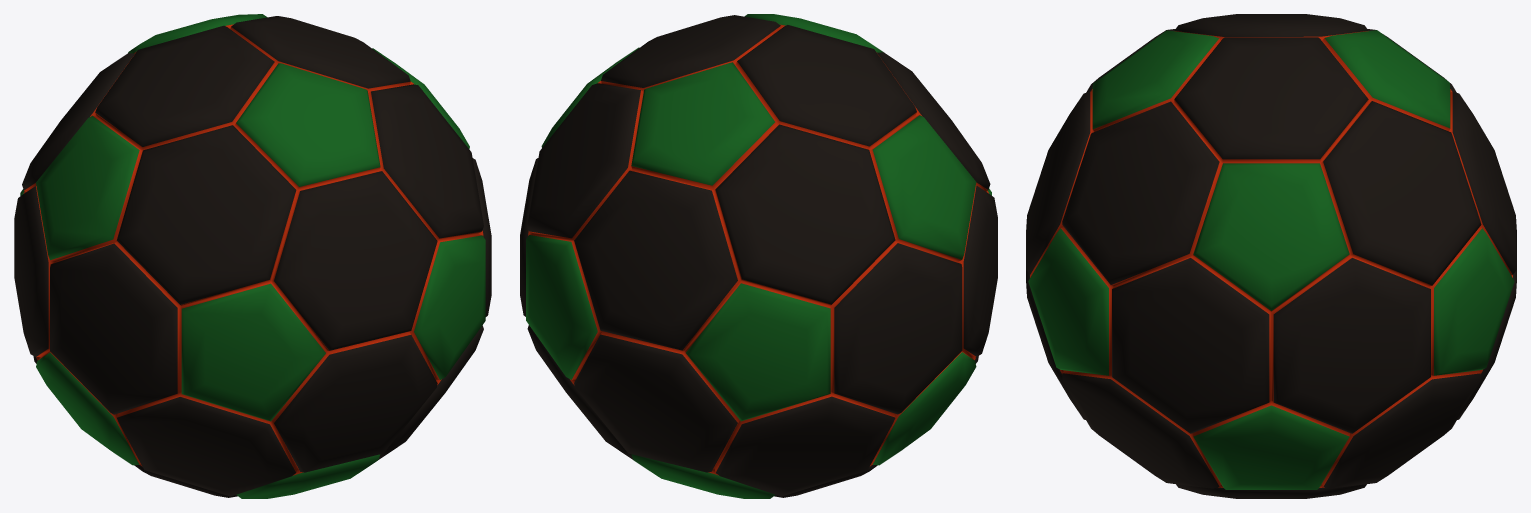
The model's file is Ball-1.FBX.
3 renders of one model, left to right at view 1: azimuth 30°, elevation 25°; view 2: azimuth 150°, elevation 25°; view 3: azimuth 270°, elevation 25°, orthographic. The views are drawn at different scales.
Visible parts, largest first — view 1: Ball-1; view 2: Ball-1; view 3: Ball-1.
Boxes of the visible parts, left/top/right/bottom form: Ball-1: left=14, top=14, right=491, bottom=498; Ball-1: left=520, top=14, right=997, bottom=498; Ball-1: left=1026, top=14, right=1516, bottom=498.
Bounding box in the file's own units: 984 × 984 × 984.
